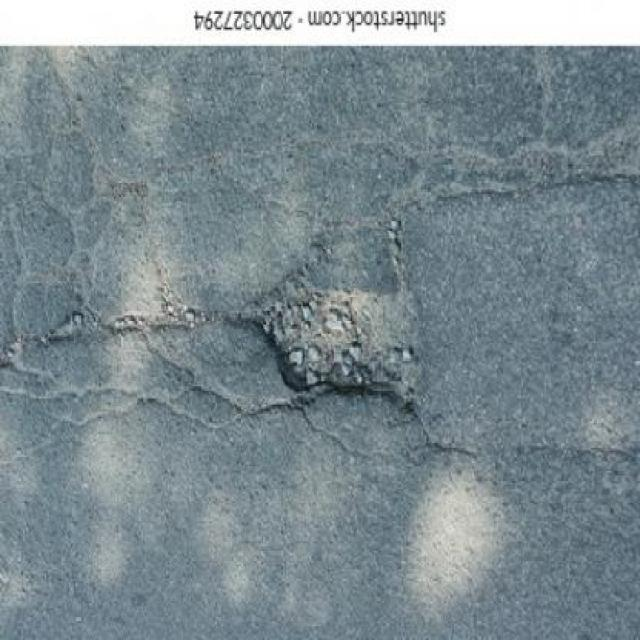Pothole: (262, 272, 414, 392)
